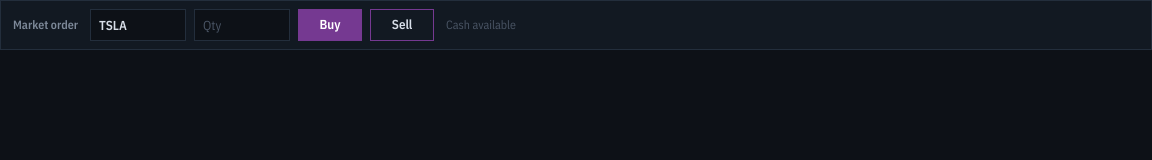
Scenario: TradeBar › shows the backend error for a failed sell
The width and height of the screenshot is (1152, 160).
In the number field with test id "trade-quantity": (242, 25) [194,9,290,41], type "3"
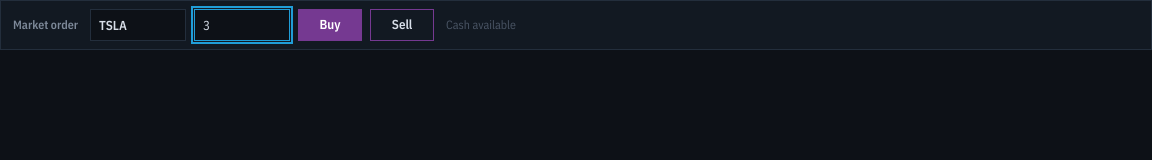
Click the button with test id "trade-sell": (402, 25) [370,9,434,41]
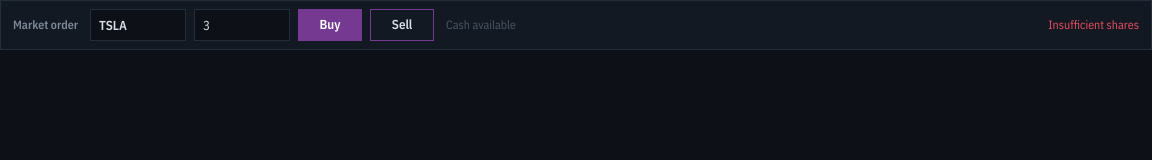
Now the message with test id "trade-message" reads "Insufficient shares", box [1048,17,1139,32]
